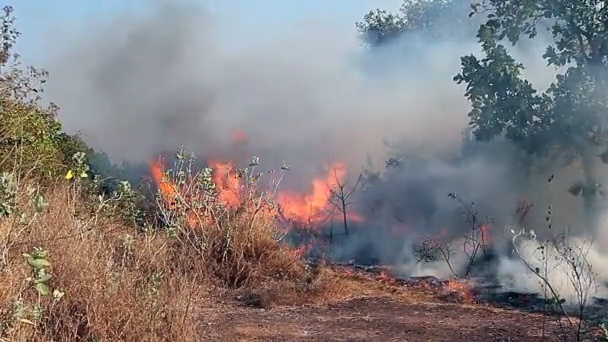fire: (64, 170, 73, 178)
